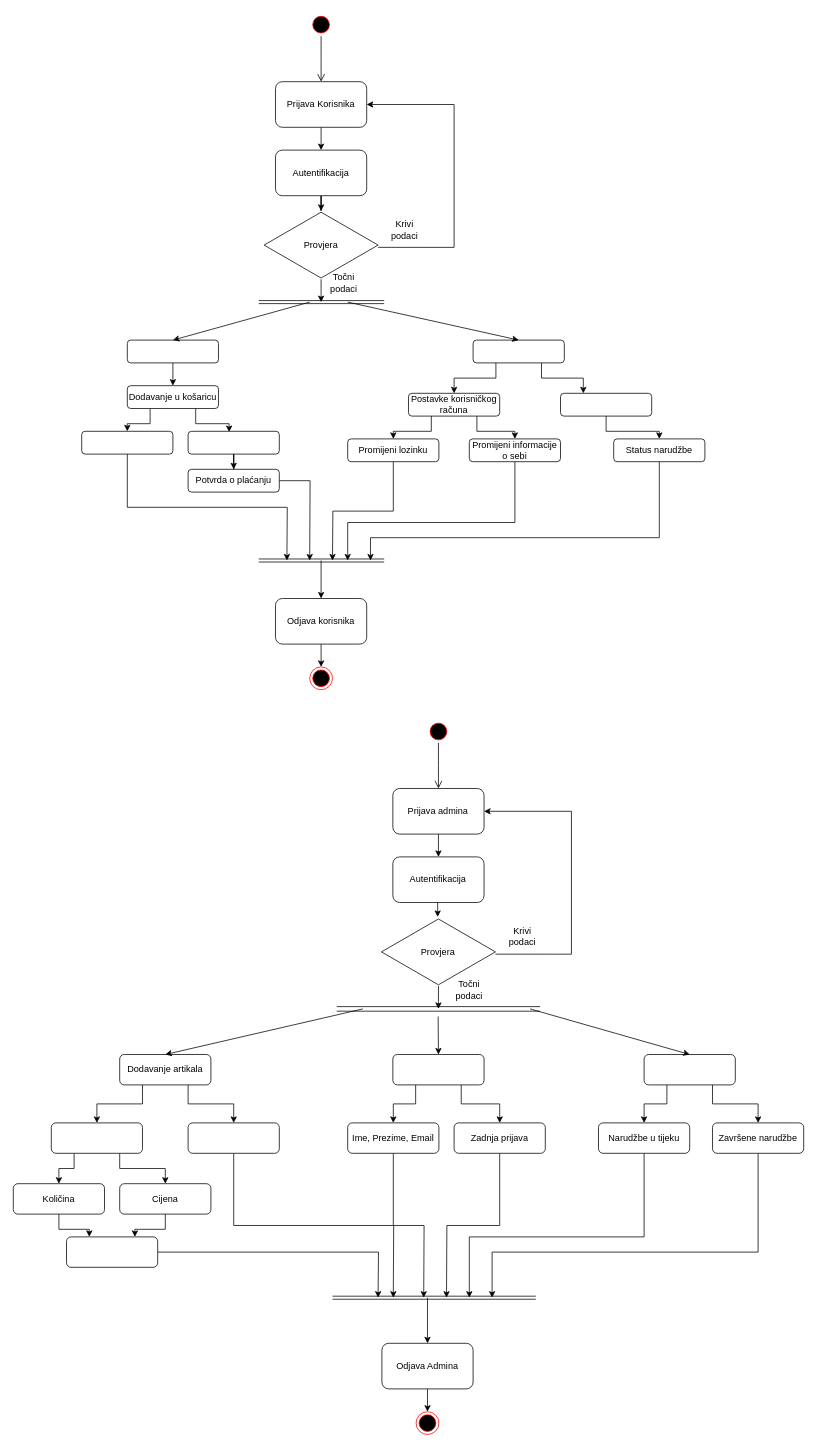
Image size: 817x1448. Some labels were removed from this diagram. The centre of each missing label's shape, as x and y in pixels:
"Brisanje košarice" goes at [127,442].
"Informacije o artiklu" goes at [96,1137].
"Korisnički račun" goes at [518,351].
"Plaćanje" goes at [233,442].
"Povijest narudžbi" goes at [606,404].
"Pregled artikala" goes at [172,351].
"Spremanje artikla" goes at [112,1251].
"Upravljanje korisnicima" goes at [438,1069].
"Upravljanje narudžbama" goes at [689,1069].
"Uredi artikl" goes at [233,1137].
